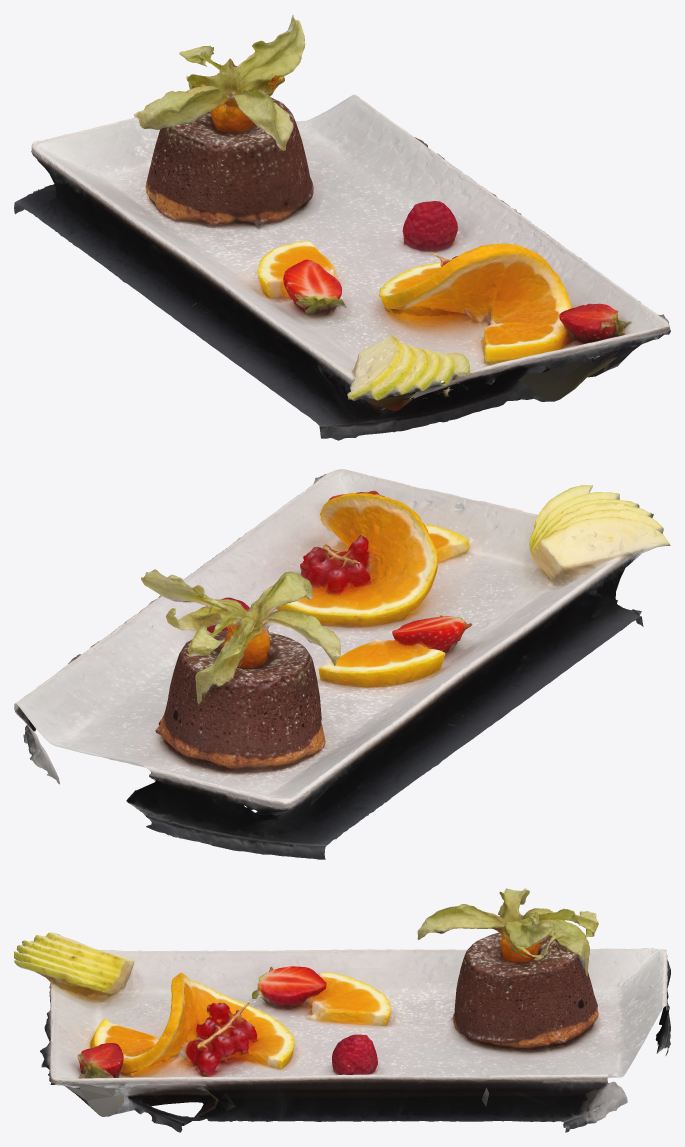
Rendered from objet.glb.
3 views of the same model, one above another, from view 1: azimuth 30°, elevation 25°; view 2: azimuth 150°, elevation 25°; view 3: azimuth 270°, elevation 25° (orthographic). The views are drawn at different scales.
Visible parts, largest first — view 1: Mesh_0_Part_0; view 2: Mesh_0_Part_0; view 3: Mesh_0_Part_0.
Part boxes in pixels (x1=…): Mesh_0_Part_0: x1=14, y1=15, x2=670, y2=440; Mesh_0_Part_0: x1=14, y1=469, x2=670, y2=859; Mesh_0_Part_0: x1=14, y1=888, x2=670, y2=1132.
Bounding box in the file's own units: 0.2297 × 0.1202 × 0.4377.
1 material, 1 textured.
